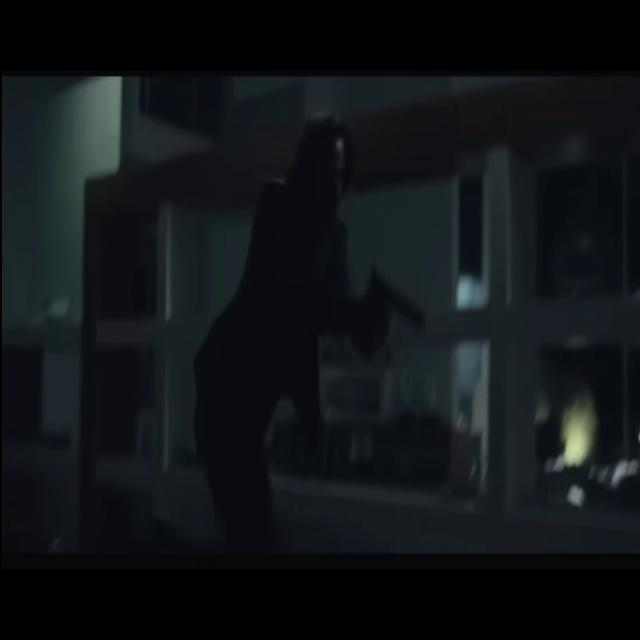weapons: (358, 252, 436, 374)
